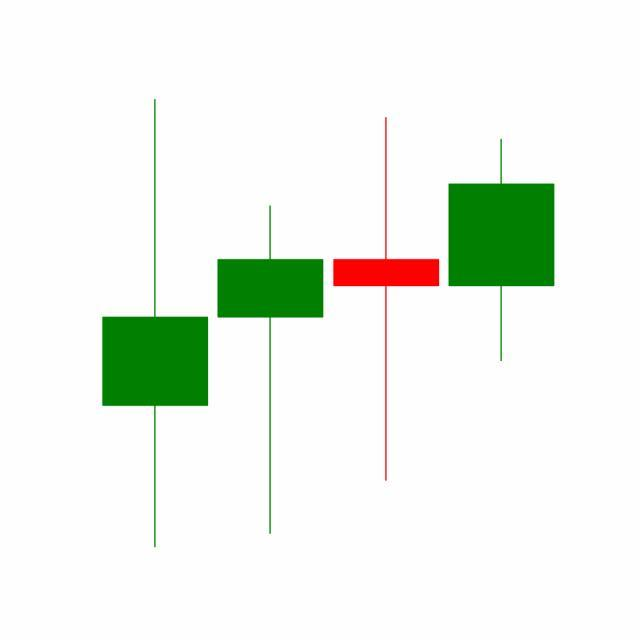Spinning Top: (329, 114, 445, 486)
